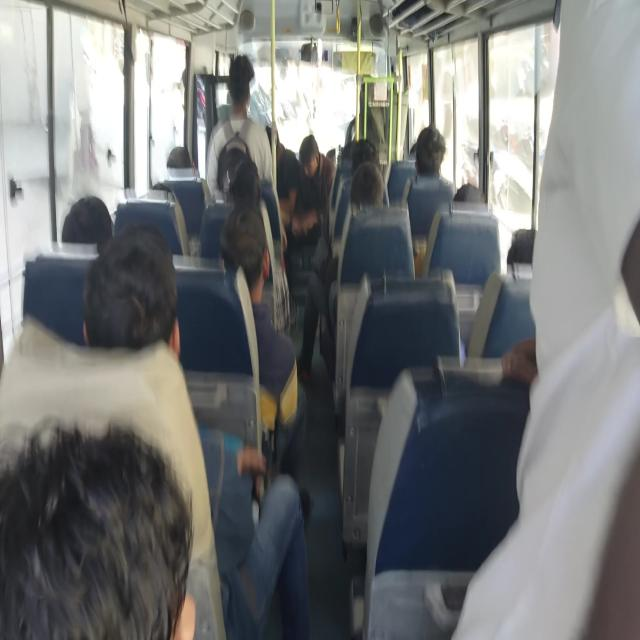person: (546, 14, 624, 624), (50, 454, 180, 640), (110, 257, 188, 370), (58, 198, 128, 268), (218, 222, 278, 296), (269, 124, 308, 204), (224, 53, 260, 118), (503, 225, 540, 288), (352, 169, 394, 212), (227, 162, 266, 207), (422, 126, 458, 172), (348, 134, 383, 166), (169, 135, 193, 181), (454, 183, 488, 212), (299, 135, 324, 165), (404, 139, 422, 167)
